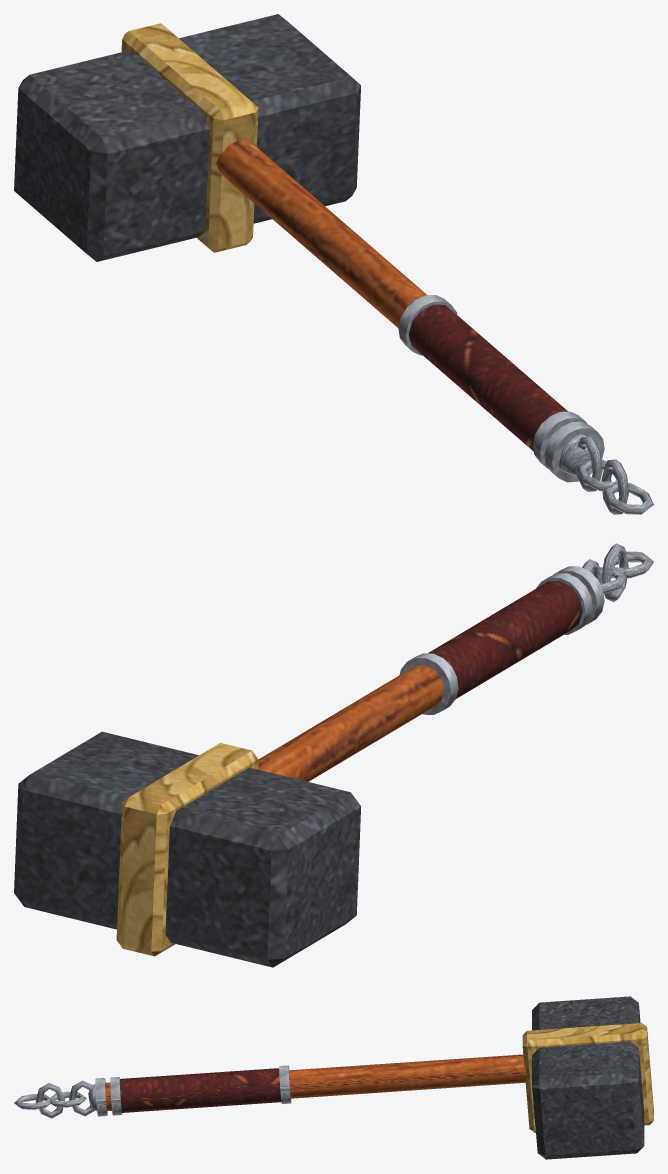
Rendered from item_hammer1.glb.
The picture shows the model from 3 angles, top to bottom: view 1: azimuth 30°, elevation 25°; view 2: azimuth 150°, elevation 25°; view 3: azimuth 270°, elevation 25°; orthographic projection. The views are drawn at different scales.
Parts seen in each view (by area): view 1: shaft; view 2: shaft; view 3: shaft.
Boxes of the visible parts, bbox=[...] form: shaft: bbox=[14, 14, 653, 514]; shaft: bbox=[14, 543, 653, 967]; shaft: bbox=[14, 996, 653, 1159].
Bounding box in the file's own units: 0.3066 × 0.1728 × 1.
Materials: 1 (1 with a texture image).
